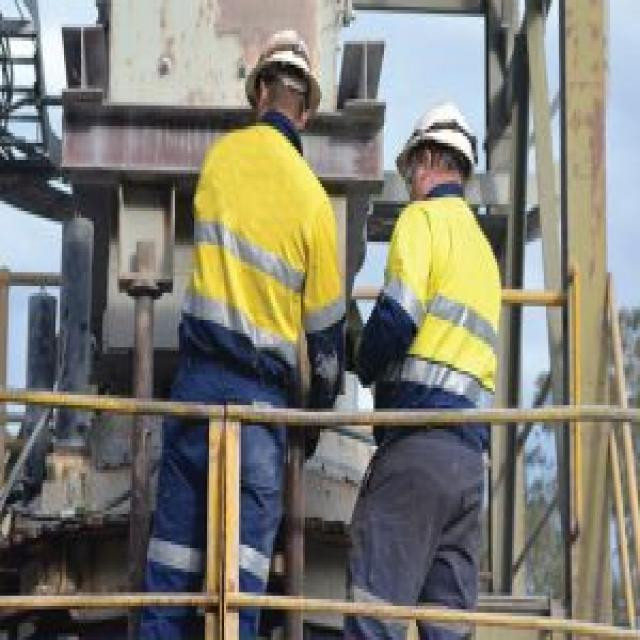Reflective-Jacket: (168, 119, 350, 388), (373, 191, 512, 415)
Safety-Helmet: (232, 17, 328, 102), (391, 92, 486, 174)
